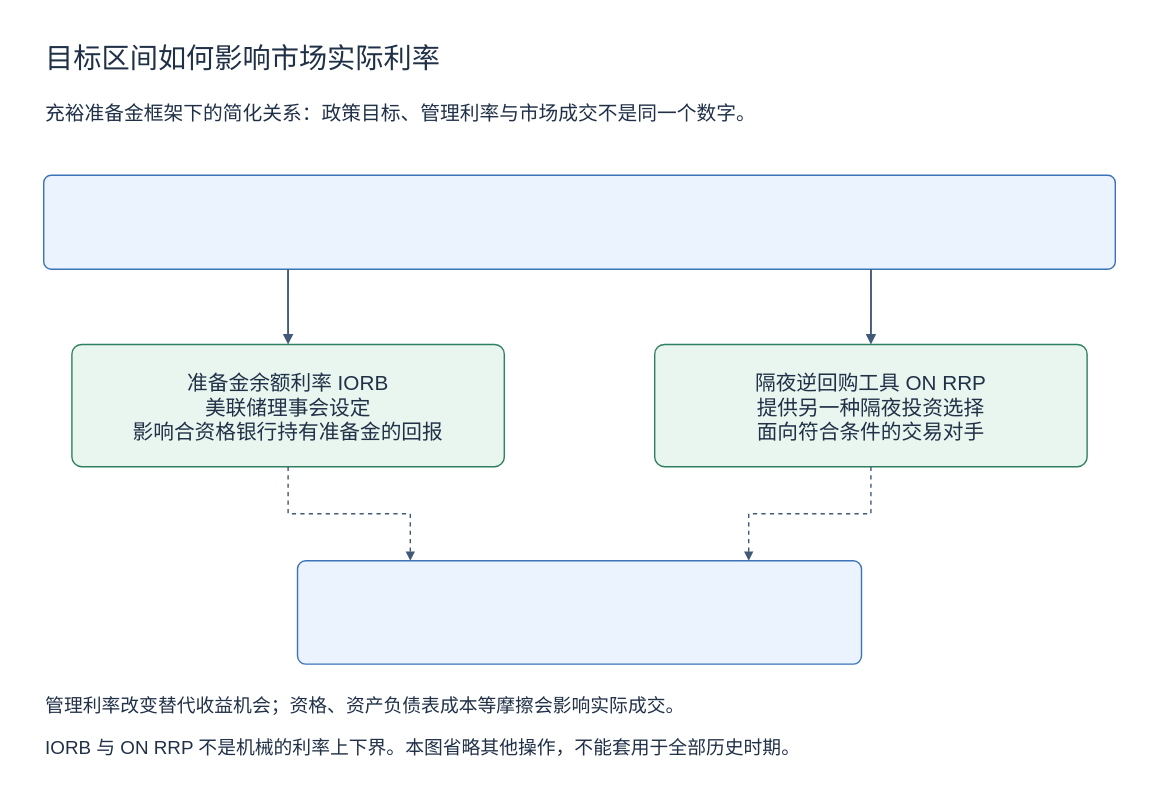
Image size: 1159x802. Some labels were removed from this diagram. Here are the shapes that lost their labels. From the top down, the centre of each, then its label:
At point 579,222: "FOMC：设定联邦基金利率目标区间 通过实施安排影响隔夜货币市场，而非给每笔贷款统一定价".
At point 579,612: "有效联邦基金利率 EFFR 市场隔夜无担保交易形成的统计利率 目标与实际成交要分别观察".
